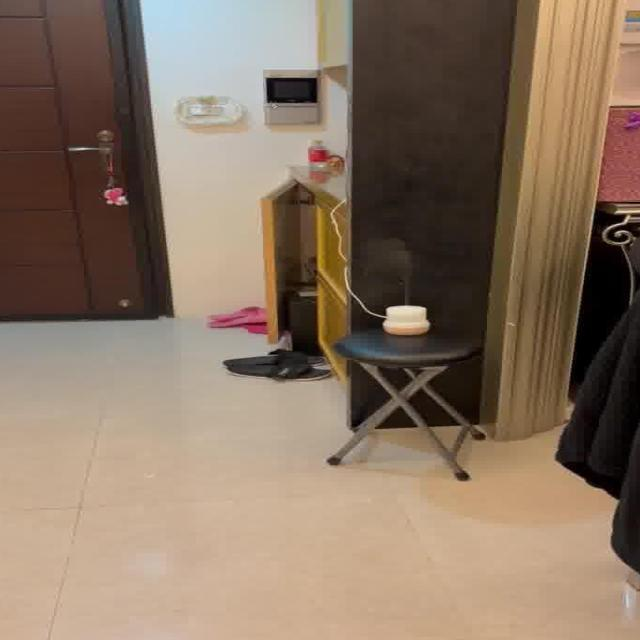fire: (369, 232, 428, 300)
